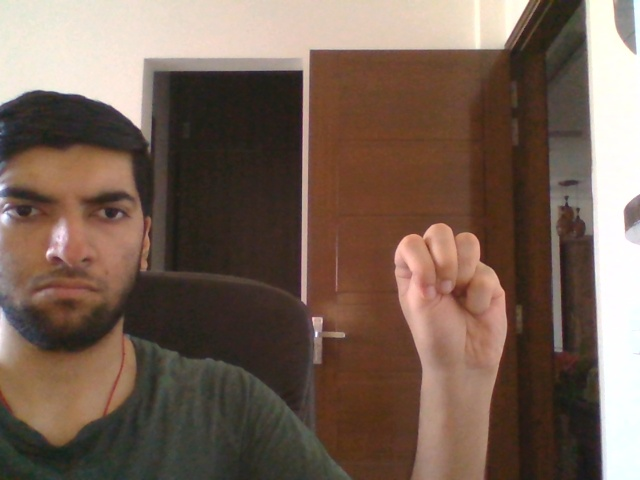LetterM: (394, 222, 509, 379)
